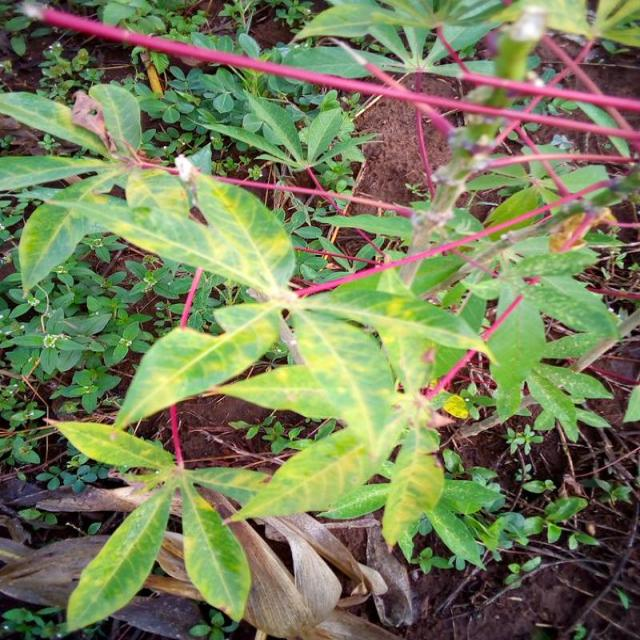cassava leaf: (18, 159, 296, 299), (112, 299, 282, 431)
